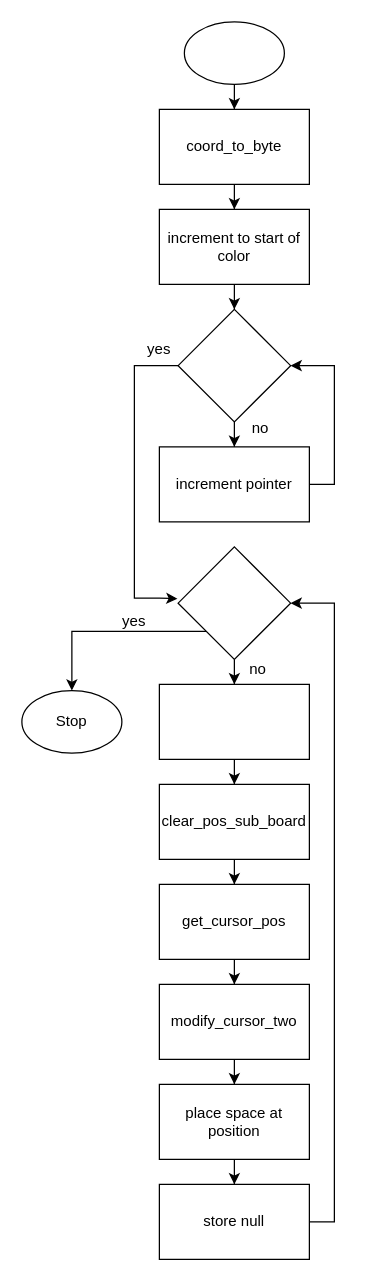
The diagram is 366 pixels wide and 1281 high, and some of its shapes have lost their labels. Here are the shapes that lost their labels. From the top down, the centre of each, then its label:
At (233,52): "Start".
At (234,365): "byte == byte to find".
At (234,602): "byte == 0".
At (233,721): "byte_to_coord".
